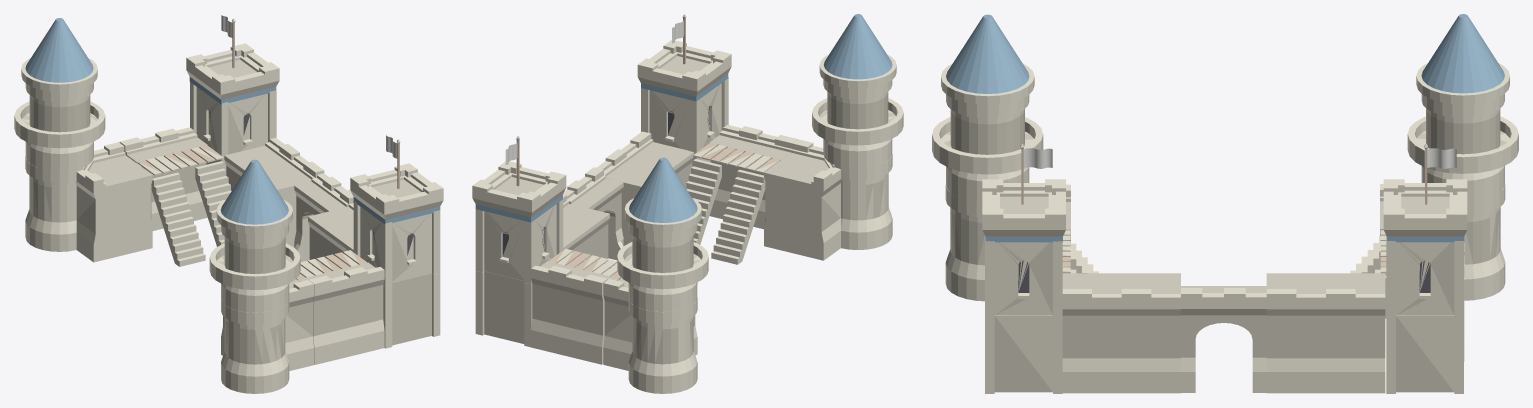
The model's file is 4level.glb.
The picture shows the model from 3 angles, left to right: view 1: azimuth 30°, elevation 25°; view 2: azimuth 150°, elevation 25°; view 3: azimuth 270°, elevation 25°; orthographic projection. The views are drawn at different scales.
Visible parts, largest first — view 1: wallCornerHalfTower.002, wallCornerHalfTower.003, wallNarrowWood.003, towerBalcony.002, towerBalcony.003, towerSquareMidWindows.028, towerSquareMidWindows.031, wallNarrowWood.004, towerSquareTopColor.012, towerSquareTopColor.013, towerSquareMid.013, towerTopRoof.003 (+6 smaller); view 2: wallCornerHalfTower.003, wallCornerHalfTower.002, wallNarrowWood.004, towerBalcony.003, towerBalcony.002, towerSquareMidWindows.031, towerSquareMidWindows.028, wallNarrowWood.003, towerSquareTopColor.012, towerSquareTopColor.013, towerTopRoof.003, towerTopRoof.002 (+7 smaller); view 3: wallHalf.004, wallHalf.001_wallHalf.002, towerBalcony.003, towerBalcony.002, towerSquareMid.034, towerSquareMid.013, towerSquareMidWindows.031, towerSquareMidWindows.028, wallNarrowGate.006, towerTopRoof.002, towerTopRoof.003, towerSquareTopColor.012 (+6 smaller).
Boxes of the visible parts, x1,y1,x2,y2 form: wallCornerHalfTower.002: [25, 142, 152, 262]; wallCornerHalfTower.003: [221, 279, 313, 393]; wallNarrowWood.003: [296, 250, 384, 364]; towerBalcony.002: [14, 83, 105, 171]; towerBalcony.003: [209, 224, 300, 312]; towerSquareMidWindows.028: [353, 201, 440, 285]; towerSquareMidWindows.031: [190, 82, 276, 165]; wallNarrowWood.004: [119, 127, 223, 230]; towerSquareTopColor.012: [186, 43, 279, 104]; towerSquareTopColor.013: [350, 163, 443, 224]; towerSquareMid.013: [383, 273, 440, 348]; towerTopRoof.003: [216, 159, 292, 233]; wallCornerHalfTower.003: [764, 139, 892, 260]; wallCornerHalfTower.002: [603, 278, 697, 393]; wallNarrowWood.004: [530, 248, 621, 364]; towerBalcony.003: [812, 79, 903, 168]; towerBalcony.002: [617, 223, 708, 311]; towerSquareMidWindows.031: [475, 198, 563, 284]; towerSquareMidWindows.028: [641, 77, 728, 162]; wallNarrowWood.003: [693, 125, 798, 229]; towerSquareTopColor.012: [472, 161, 566, 222]; towerSquareTopColor.013: [637, 40, 731, 101]; towerTopRoof.003: [819, 14, 896, 88]; towerTopRoof.002: [624, 157, 701, 232]; wallHalf.004: [1266, 273, 1385, 393]; wallHalf.001_wallHalf.002: [1062, 273, 1180, 393]; towerBalcony.003: [932, 94, 1043, 202]; towerBalcony.002: [1407, 94, 1518, 201]; towerSquareMid.034: [1386, 315, 1463, 393]; towerSquareMid.013: [985, 315, 1062, 393]; towerSquareMidWindows.031: [1386, 236, 1463, 317]; towerSquareMidWindows.028: [985, 236, 1062, 317]; wallNarrowGate.006: [1181, 286, 1266, 392]; towerTopRoof.002: [1416, 14, 1509, 104]; towerTopRoof.003: [941, 14, 1034, 105]; towerSquareTopColor.012: [1383, 179, 1467, 242].
Size of the model in its own units: 38.34 by 35.27 by 70.21.
